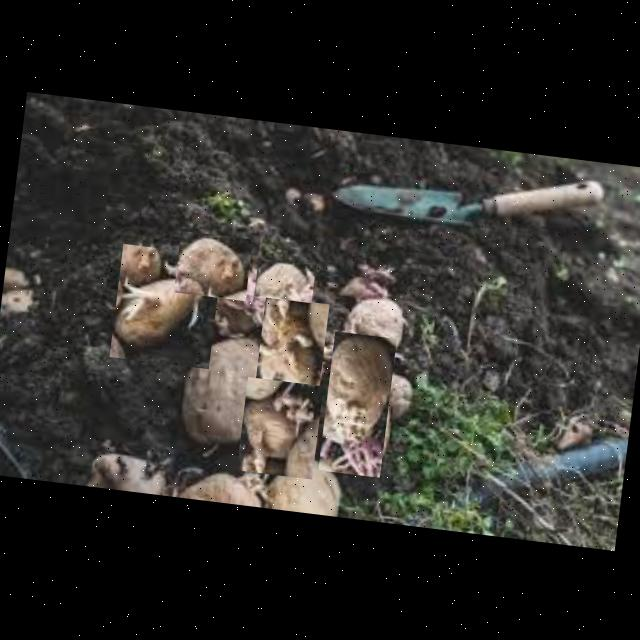Sprouted potato: (168, 327, 274, 462), (108, 242, 221, 368), (316, 329, 396, 476), (235, 376, 322, 478), (253, 295, 328, 400), (172, 230, 252, 300), (170, 458, 278, 507), (82, 438, 171, 494), (339, 292, 406, 356), (252, 257, 314, 302)
